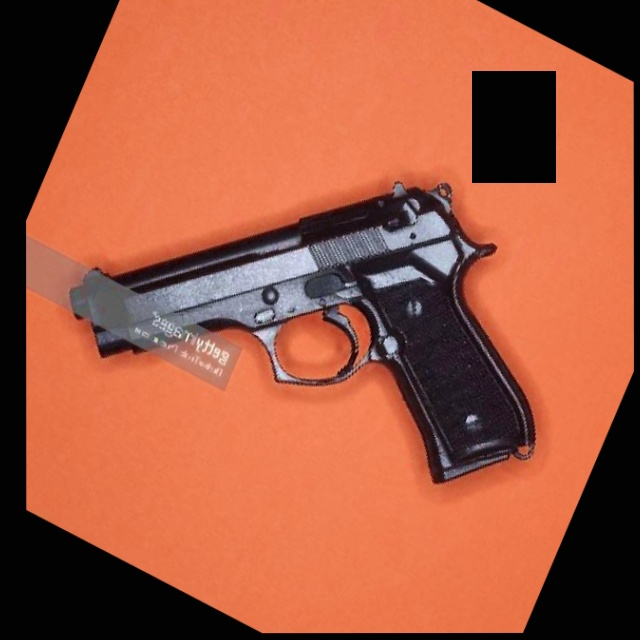gun: (50, 37, 618, 562)
